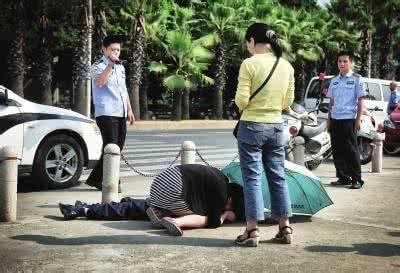falling: (45, 155, 268, 233)
